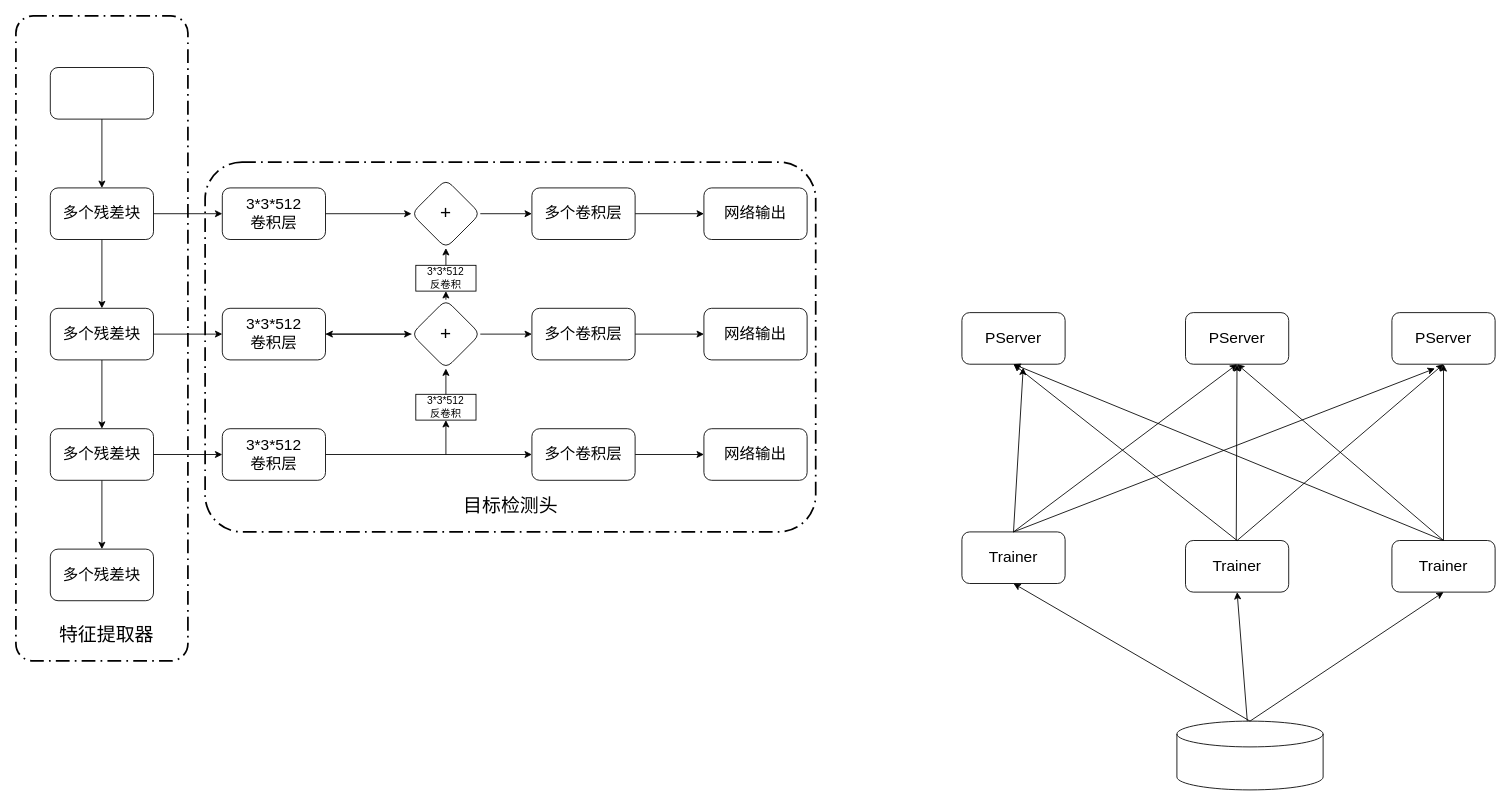
The diagram is 1510 pixels wide and 805 high, and some of its shapes have lost their labels. Here are the shapes that lost their labels. From the top down, the box of each, then its label:
(49, 67, 154, 119): 归一化后图像数据
(1176, 720, 1323, 790): data
